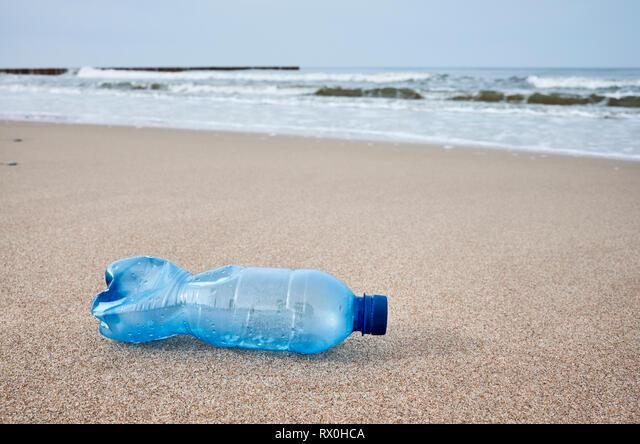bottle: (86, 238, 399, 374)
